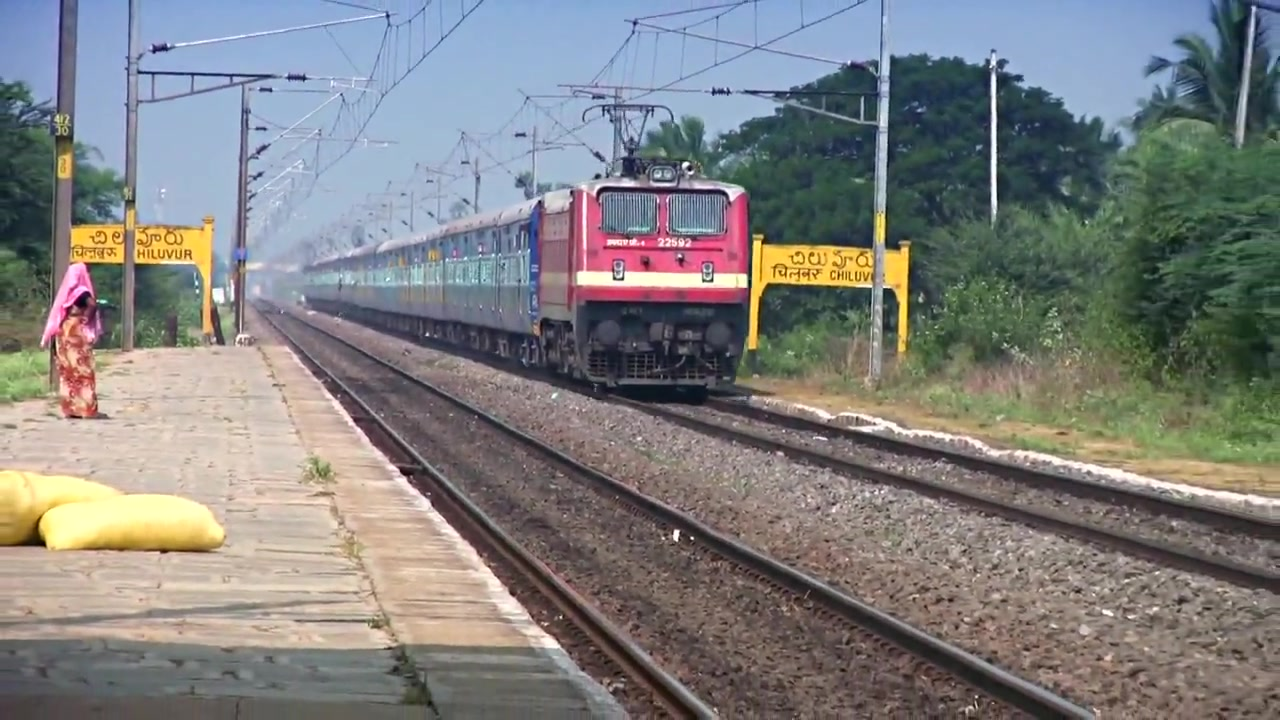train: (277, 154, 755, 405)
